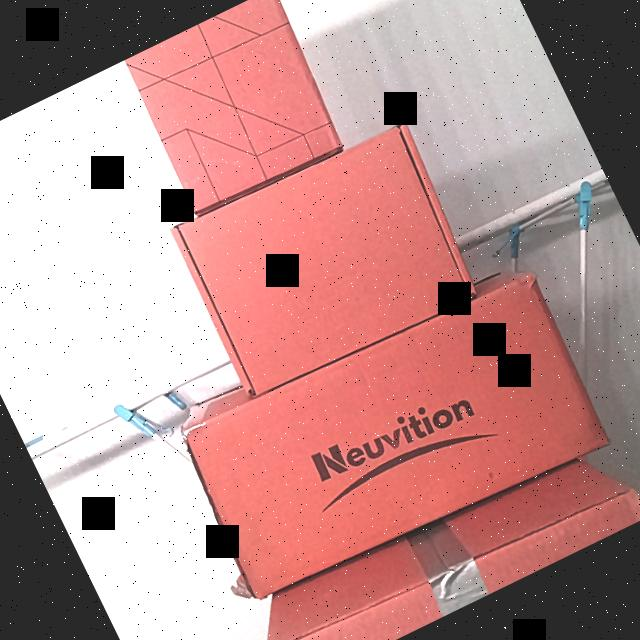box: (180, 268, 609, 604), (168, 118, 478, 400), (266, 481, 640, 640), (123, 0, 346, 212)
